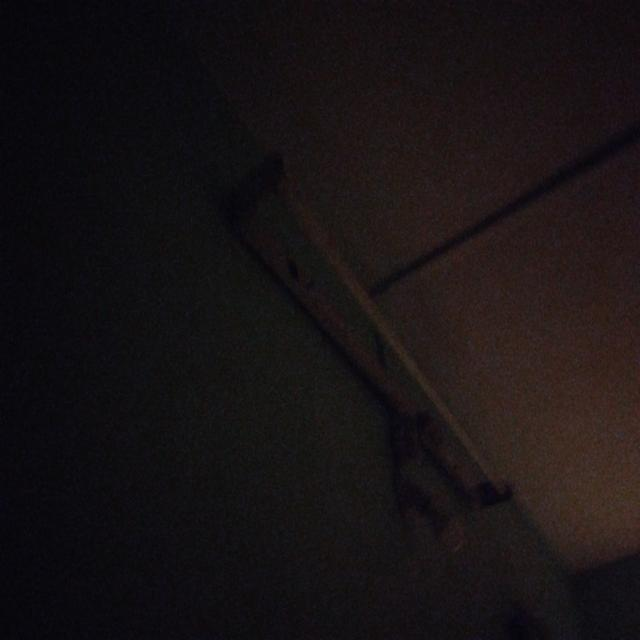tubelight_off: (218, 143, 521, 518)
